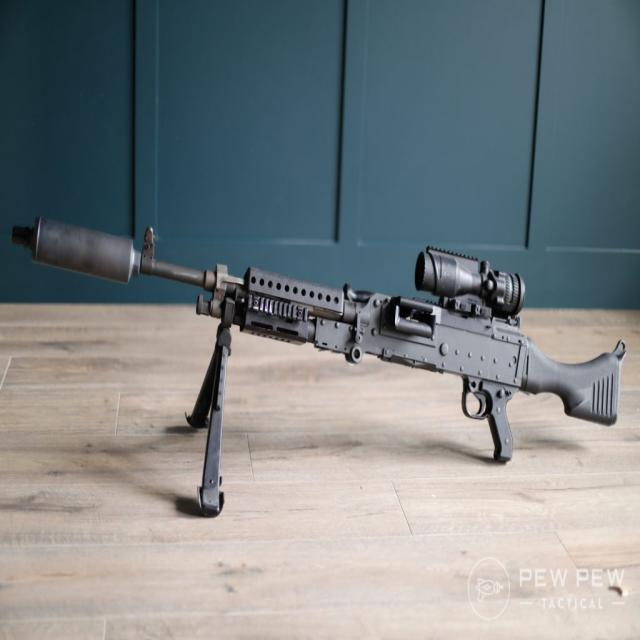Gun: (13, 168, 632, 528)
